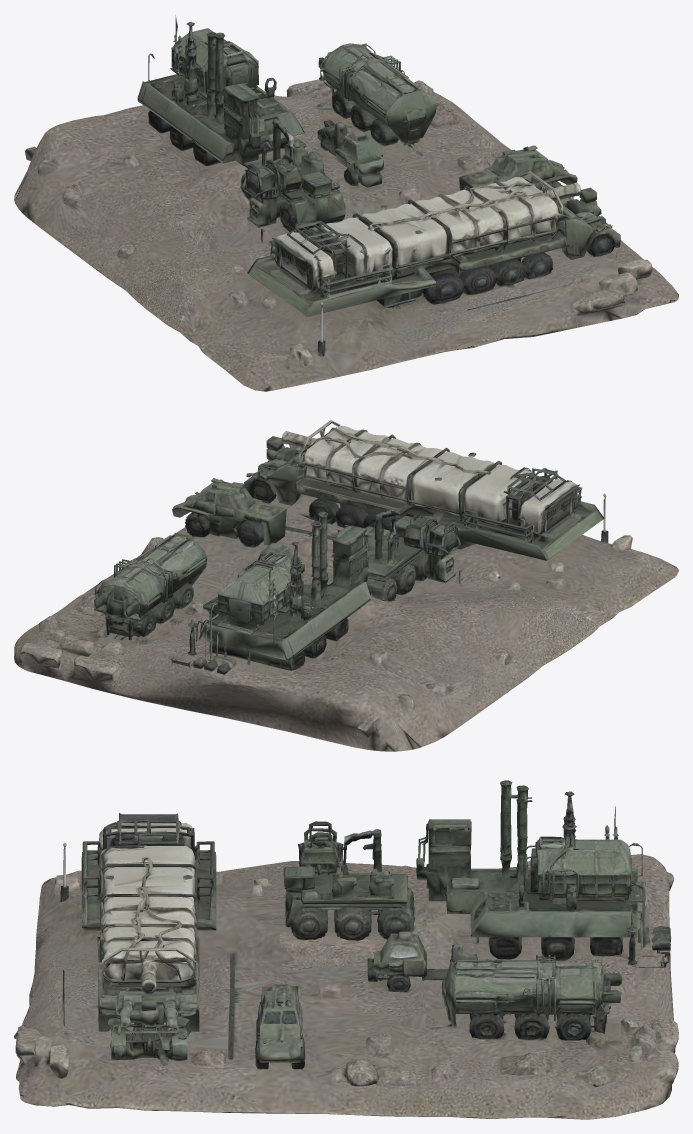
File: t243_hub_lod0.glb
3 renders of one model, top to bottom at view 1: azimuth 30°, elevation 25°; view 2: azimuth 150°, elevation 25°; view 3: azimuth 270°, elevation 25°, orthographic. The views are drawn at different scales.
Size of the model in its own units: 13 by 4.75 by 15.
Materials: 1 (1 with a texture image).
